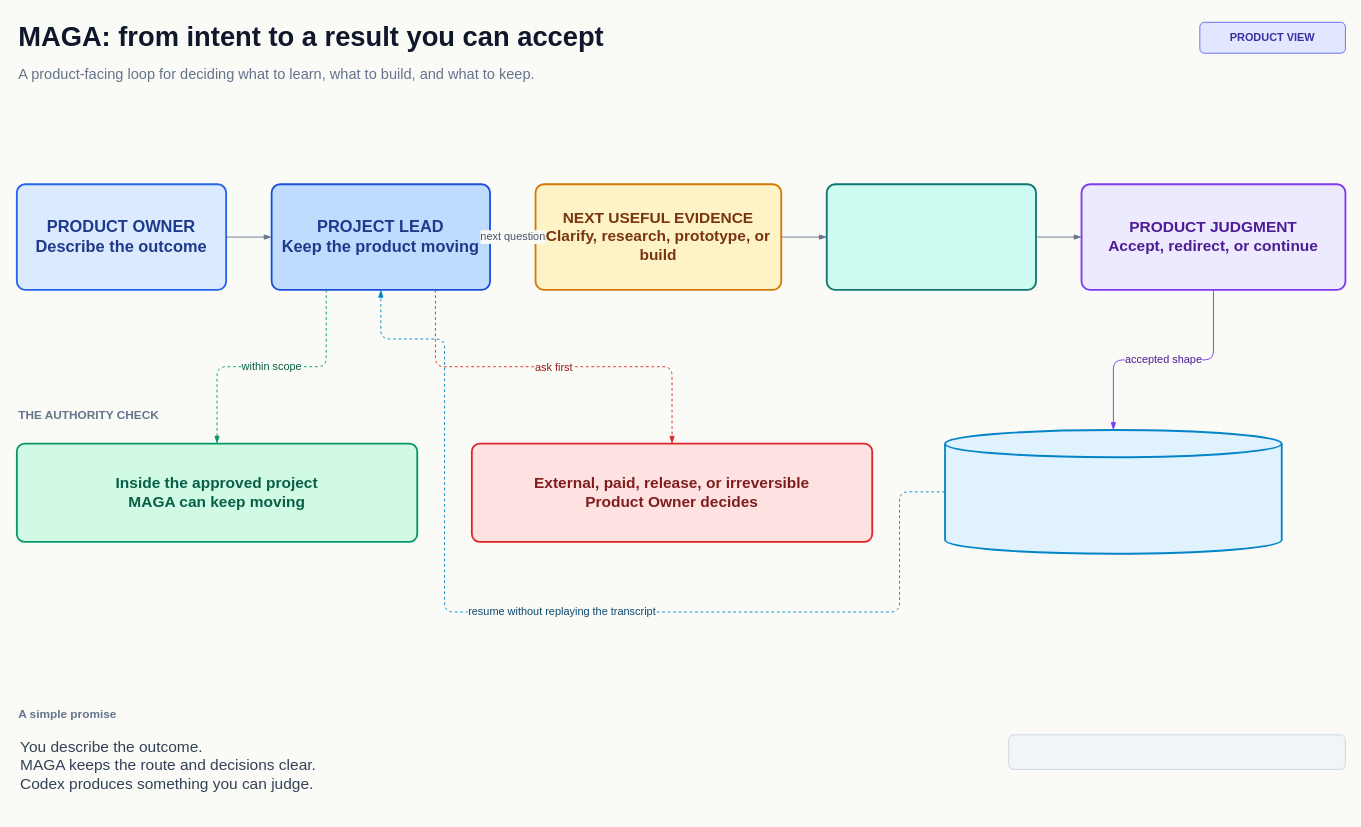
This 1361x827 diagram has some shape labels left out. The shapes that lost their labels are listed below. From the top down, each one's box as (x1, y1, x2, y2) in pixels, then its label:
(825, 183, 1036, 290): INSPECTABLE RESULT Try the behavior
(944, 429, 1282, 554): PROJECT MEMORY Decisions, design, evidence, and current state
(1008, 734, 1345, 769): Reader level: product owner / first-time builder
